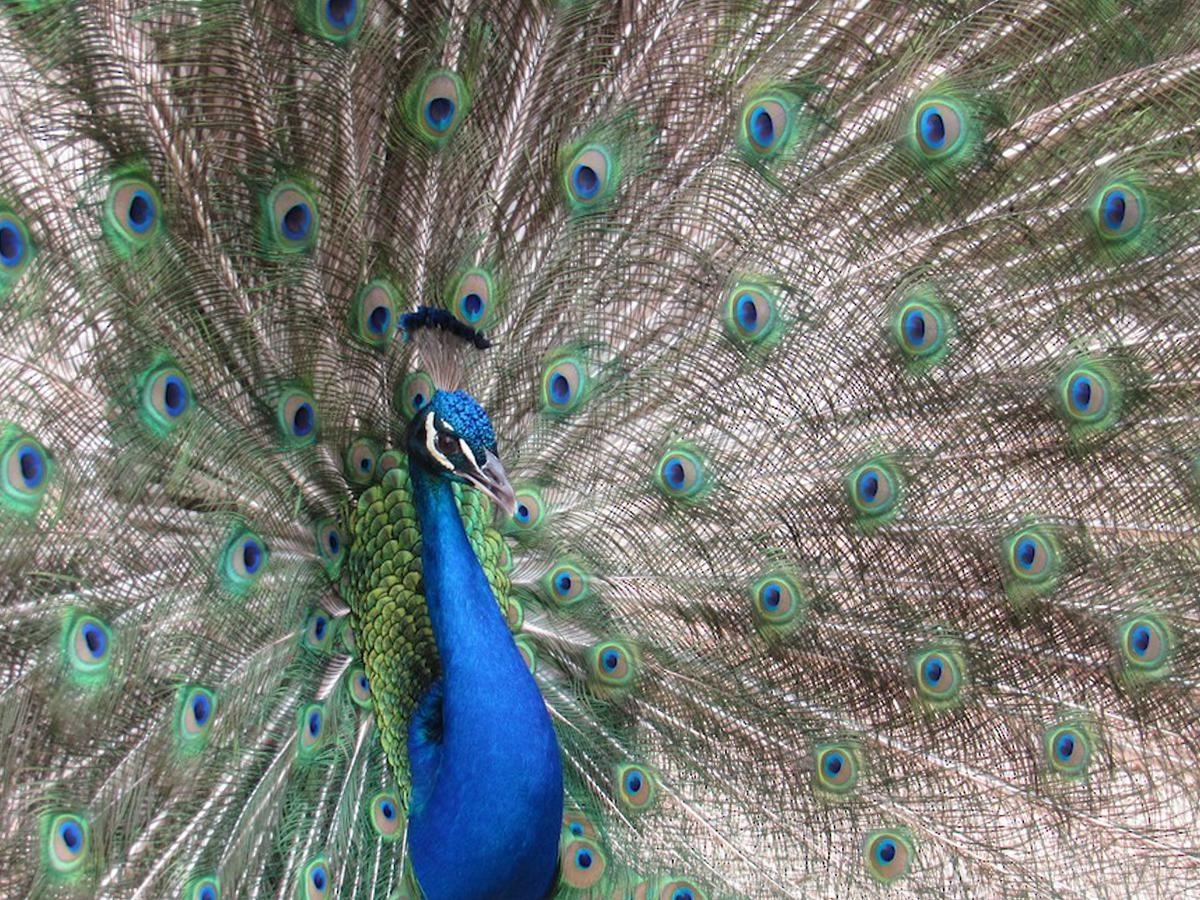peacock: (46, 13, 1018, 840)
